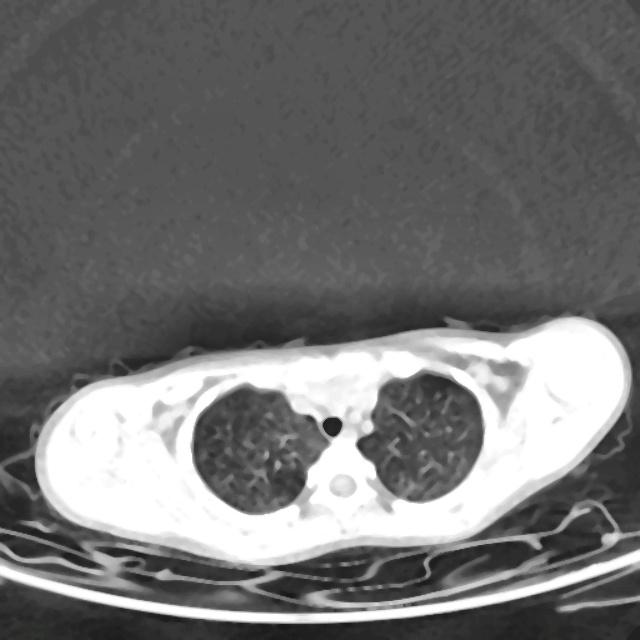covid: (31, 313, 632, 569)
